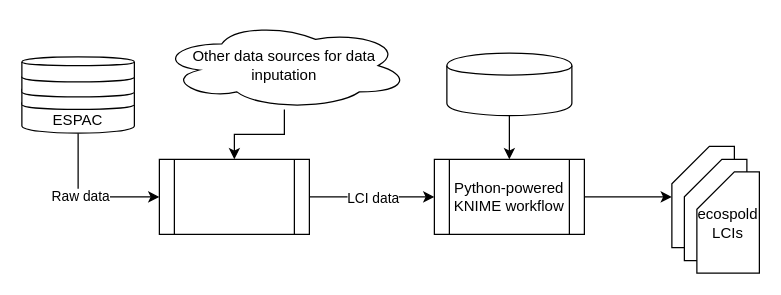
The diagram is 781 pixels wide and 295 high, and some of its shapes have lost their labels. The shapes that lost their labels are listed below. From the top down, each one's centre as x and y in pixels, then its label:
At [509,84]: "Emission factors".
At [233,196]: "Python engine".
